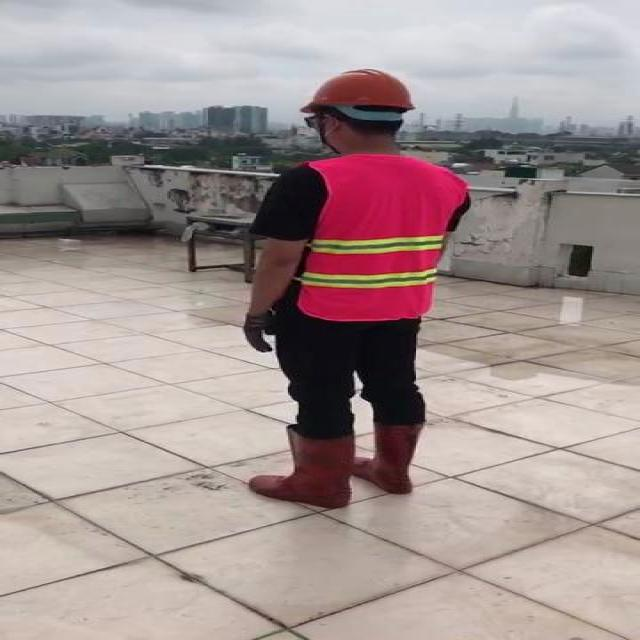boots: (246, 427, 356, 508), (361, 418, 425, 494)
hand_glove: (238, 312, 279, 351)
head_helmet: (297, 65, 418, 112)
person: (220, 64, 478, 511)
vest: (298, 154, 468, 319)
